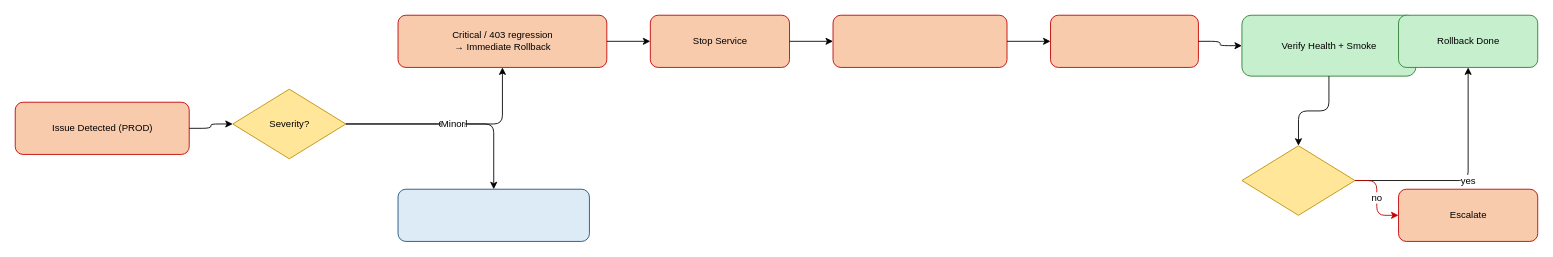
Image size: 1553x257. Some labels were removed from this diagram. The centre of each missing label's shape, as x and y in pixels:
Minor → Hotfix (no rollback): point (493, 214)
Redeploy v1.38.0: point (919, 40)
Restore Config: point (1124, 40)
Verify OK?: point (1298, 180)
